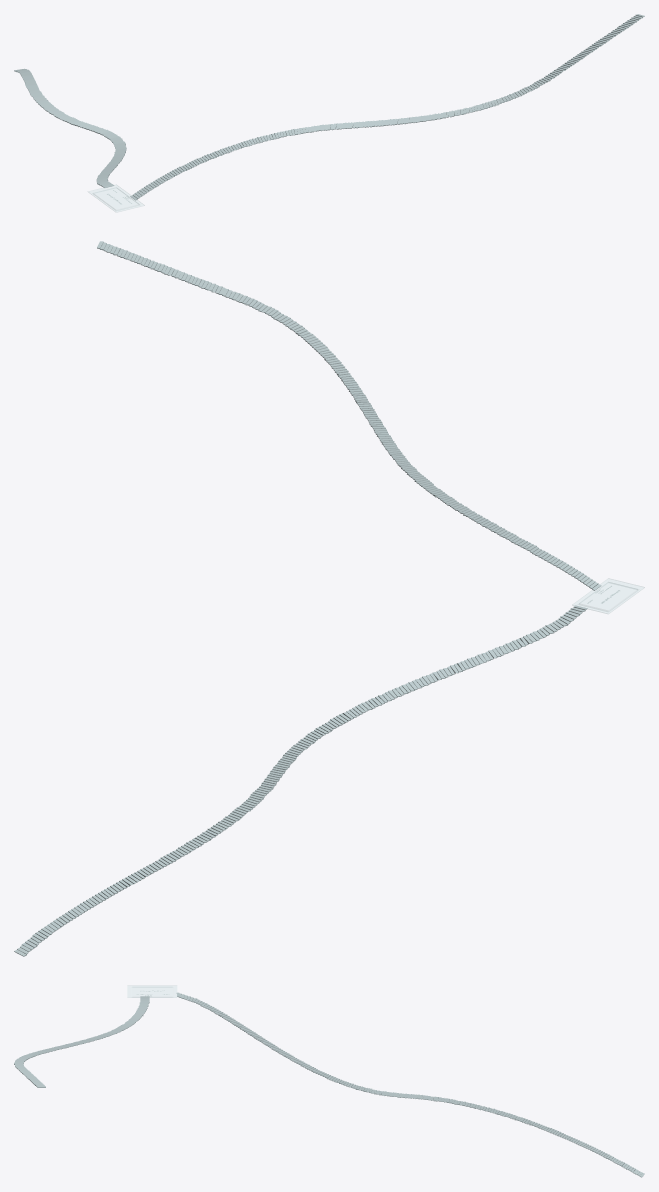
File: glass_compressed.glb
The picture shows the model from 3 angles, top to bottom: view 1: azimuth 30°, elevation 25°; view 2: azimuth 150°, elevation 25°; view 3: azimuth 270°, elevation 25°; orthographic projection. The views are drawn at different scales.
Visible parts, largest first — view 1: Cube, Cube.001, Plane.001; view 2: Cube.001, Cube, Plane.001; view 3: Cube.001, Cube, Plane.001.
Boxes of the visible parts, left/top/right/bottom form: Cube: left=130, top=14, right=644, bottom=200; Cube.001: left=14, top=68, right=126, bottom=187; Plane.001: left=88, top=184, right=144, bottom=212; Cube.001: left=14, top=605, right=587, bottom=956; Cube: left=97, top=241, right=601, bottom=590; Plane.001: left=572, top=578, right=644, bottom=613; Cube.001: left=176, top=992, right=644, bottom=1177; Cube: left=14, top=996, right=149, bottom=1087; Plane.001: left=127, top=985, right=176, bottom=997.
Bounding box in the file's own units: 141 × 67.07 × 183.
